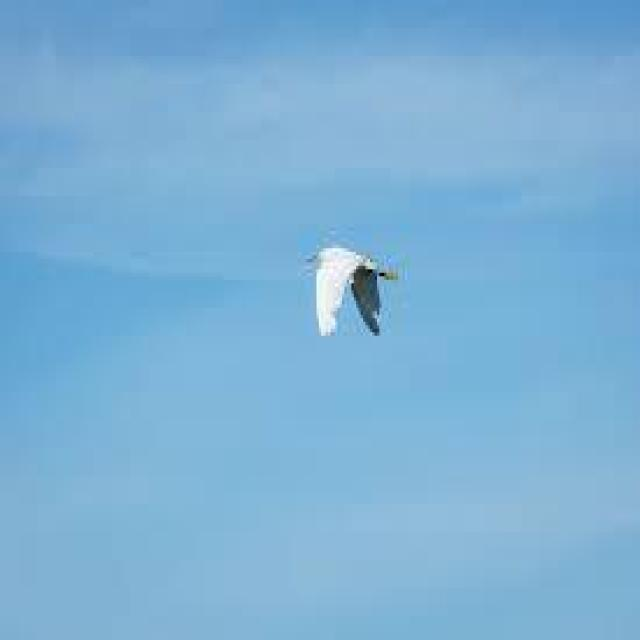bird: (305, 238, 400, 339)
